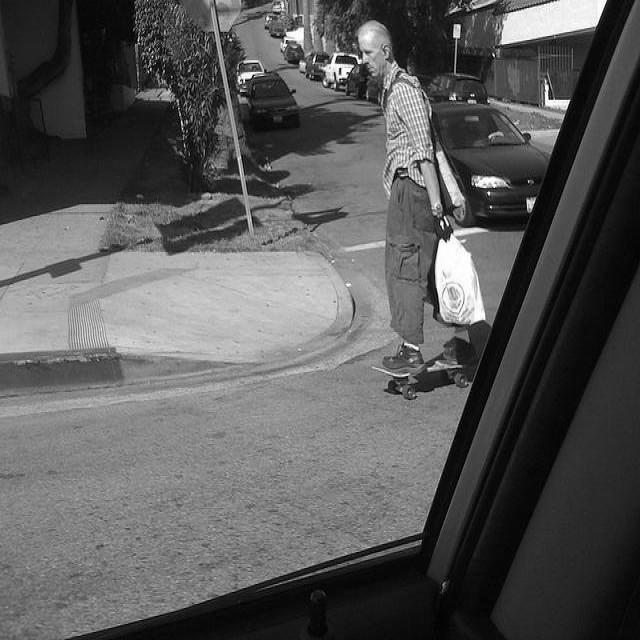vehicle: (98, 3, 640, 630), (433, 100, 549, 226), (249, 75, 299, 130), (424, 73, 490, 103), (322, 53, 359, 91), (235, 55, 267, 97), (344, 64, 372, 98), (304, 52, 332, 80), (364, 77, 382, 105), (282, 43, 304, 65), (279, 37, 297, 53)
